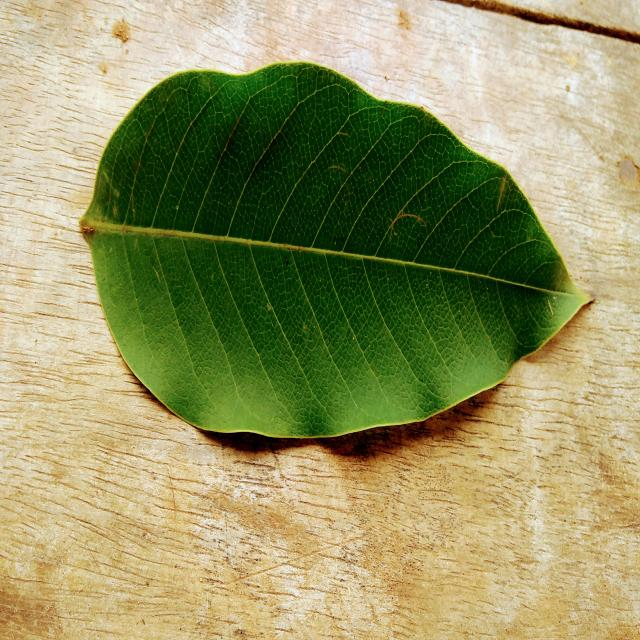sampige: (81, 62, 591, 438)
